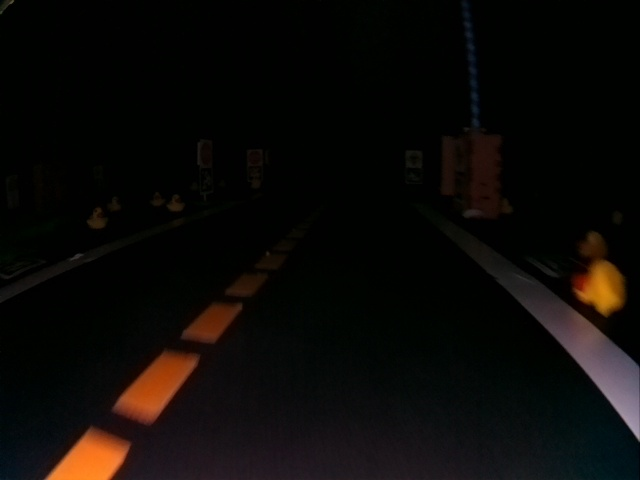Duckie: (574, 261, 624, 314), (579, 232, 606, 258), (89, 207, 107, 228), (167, 194, 183, 210), (107, 195, 121, 212)
Intersection sign: (405, 150, 422, 167)
Stop sign: (248, 150, 262, 165)
